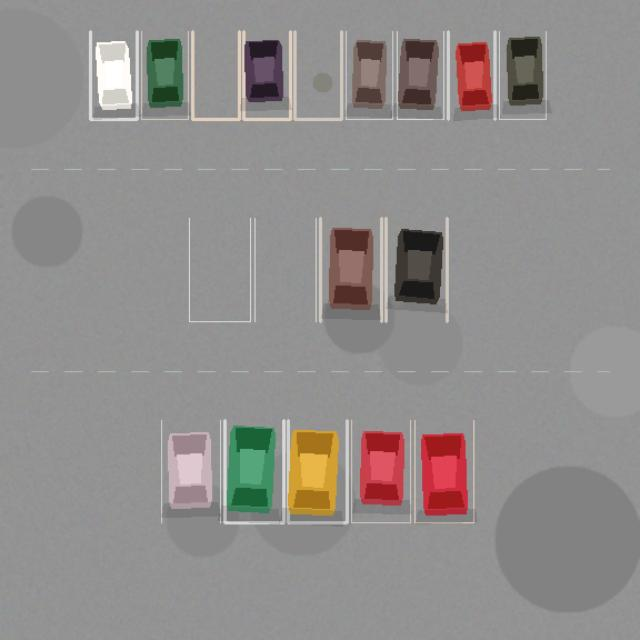space-empty: (254, 218, 316, 321), (189, 218, 250, 321), (192, 31, 239, 119), (294, 31, 341, 119)
space-occupied: (320, 218, 381, 321), (386, 218, 447, 321), (161, 420, 220, 522), (224, 420, 283, 522), (288, 420, 347, 522), (351, 420, 410, 522), (414, 420, 473, 522), (90, 31, 137, 119), (141, 31, 188, 119), (243, 31, 290, 119), (499, 31, 546, 119), (346, 31, 392, 119), (397, 31, 443, 119), (448, 31, 494, 119)
